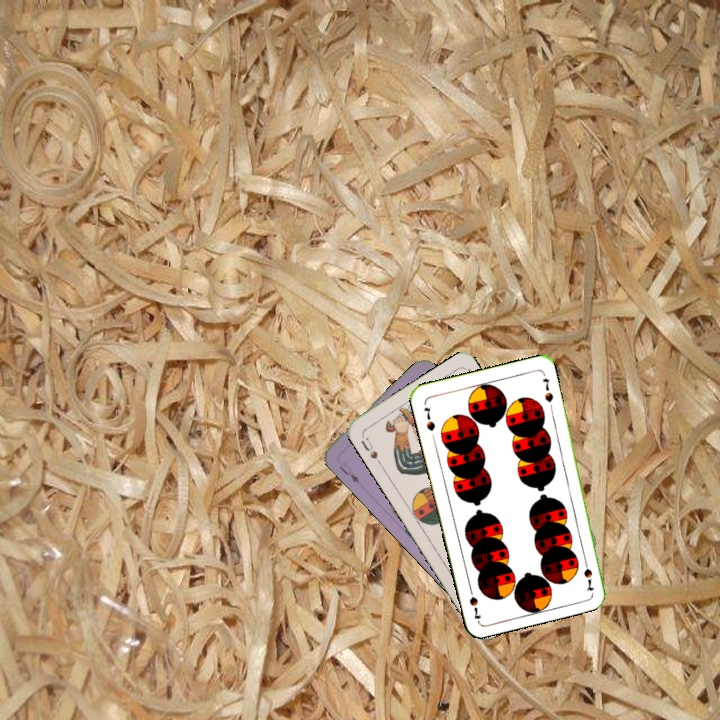EU: (335, 458, 362, 486)
S7: (580, 554, 596, 594), (420, 403, 438, 434)
SU: (357, 431, 384, 467)
